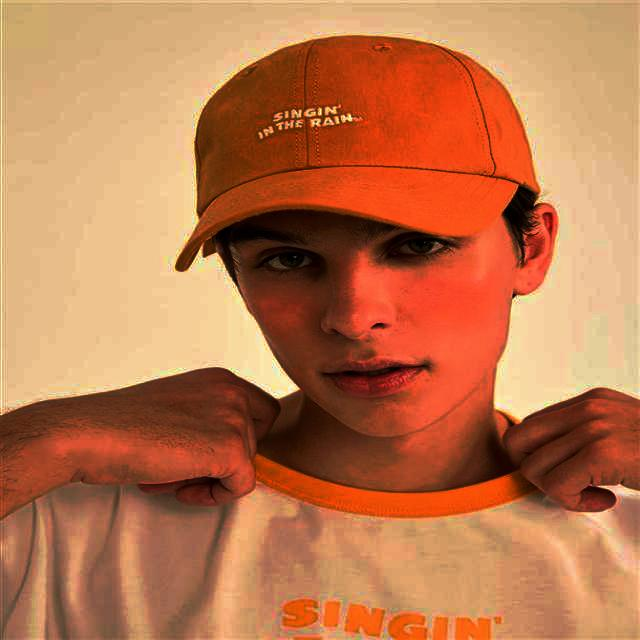TOPI: (174, 34, 546, 274)
